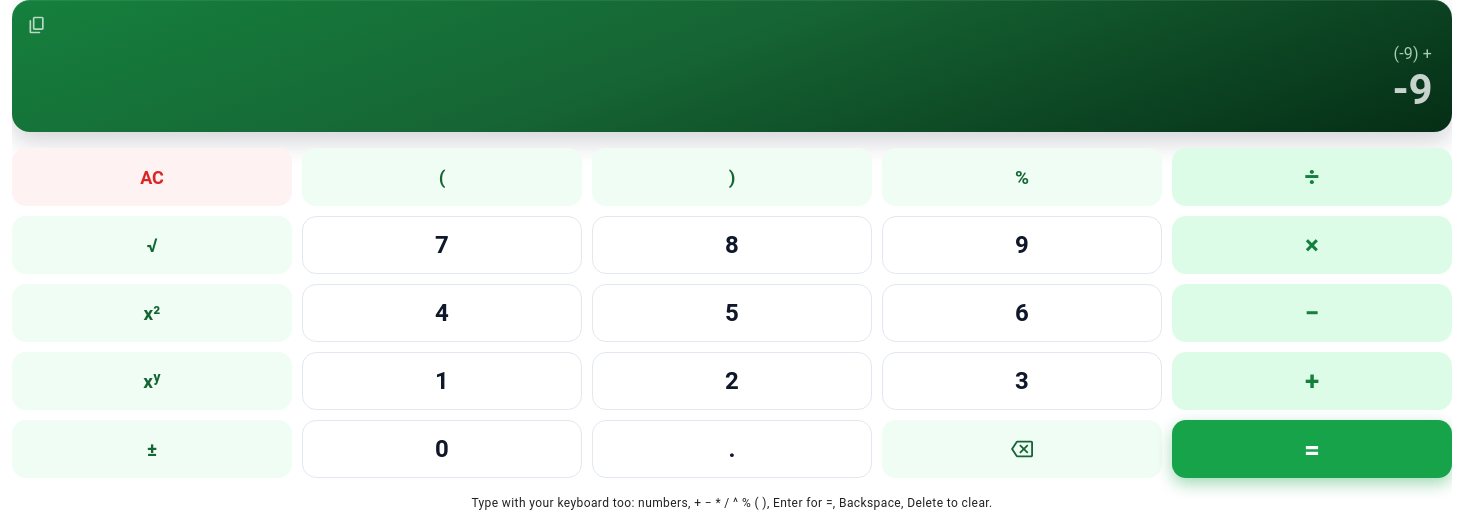
StandardCalculator › toggles the sign of the last number and backspaces
The width and height of the screenshot is (1464, 527).
Earlier steps of the test are not shown.
Click the button "4" at (442,313), box [302,284,582,342]
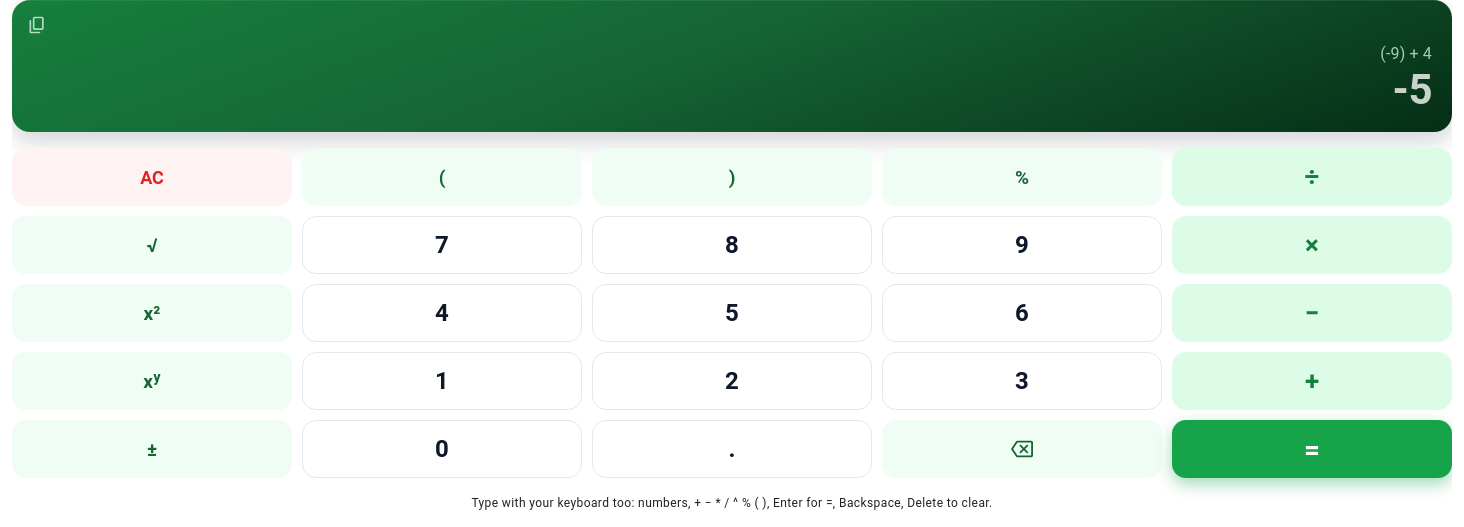
Click the button named "Equals" at (1312,449), box [1172,420,1452,478]
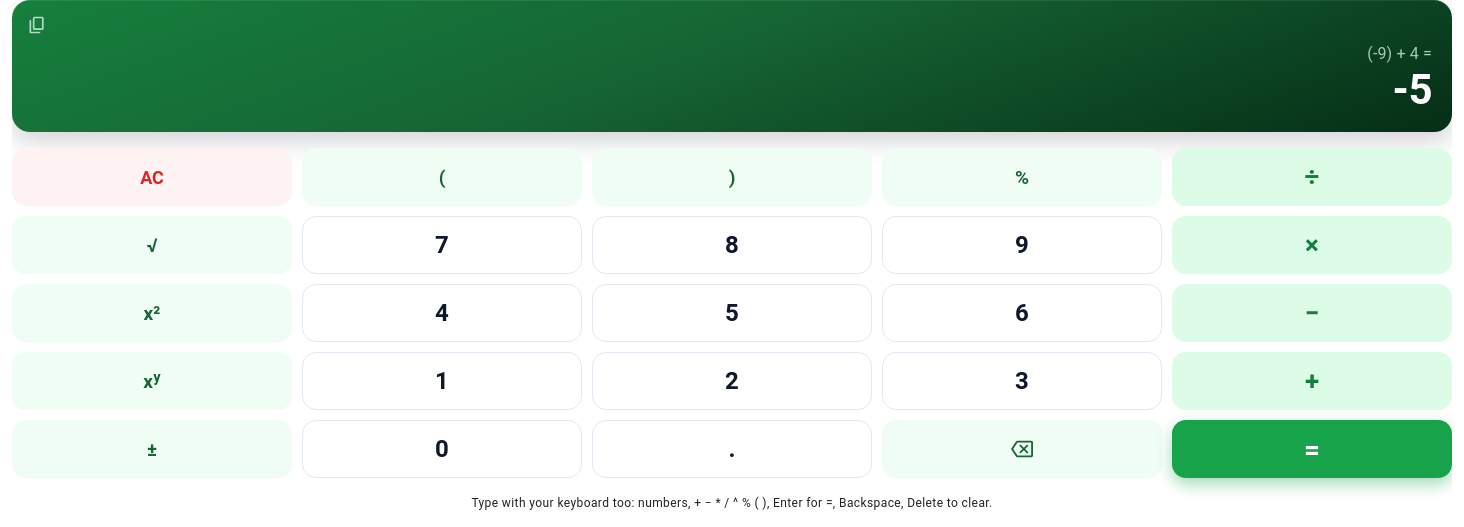
Result: the text with test id "calc-display" reads "-5" at [1393,65,1432,114]
Click the button with aria-label "Clear all" at (152,177), box [12,148,292,206]
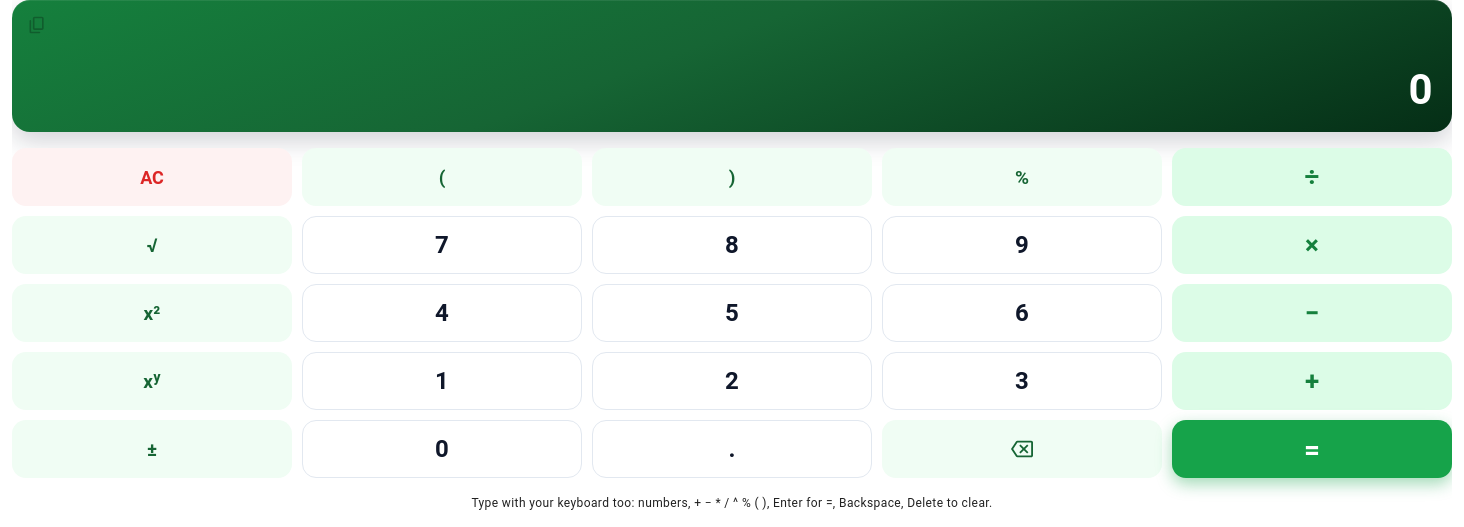
Click the button "1" at (442,381), box [302,352,582,410]
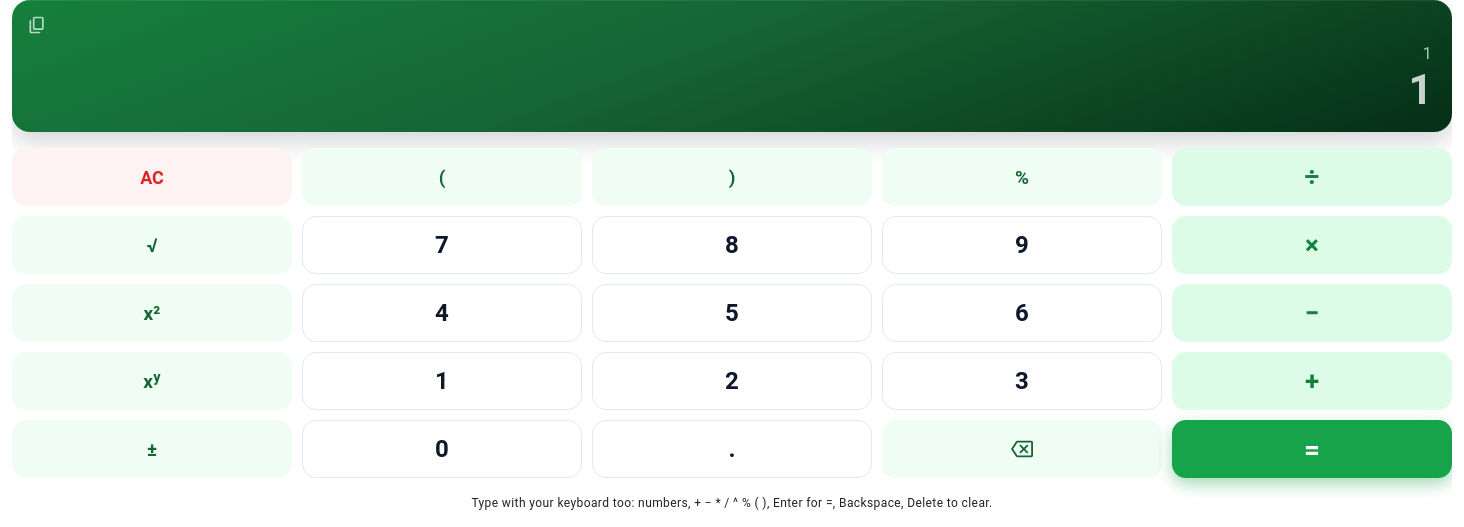
Click the button "2" at (732,381), box [592,352,872,410]
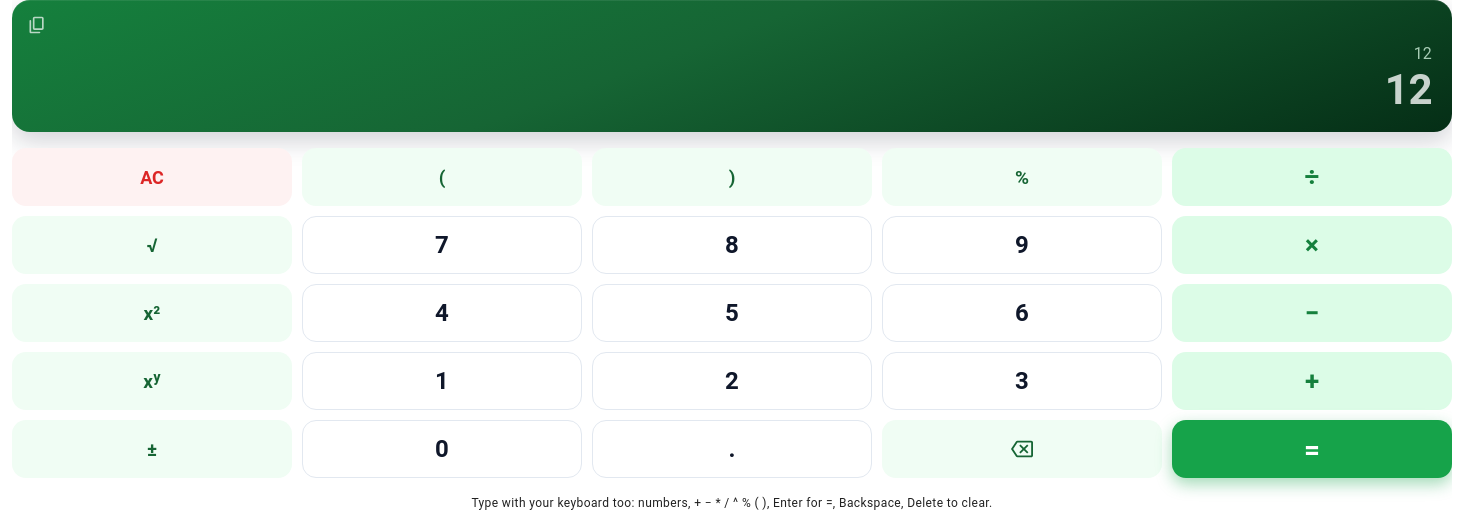
Click the button named "Delete last" at (1022,449), box [882,420,1162,478]
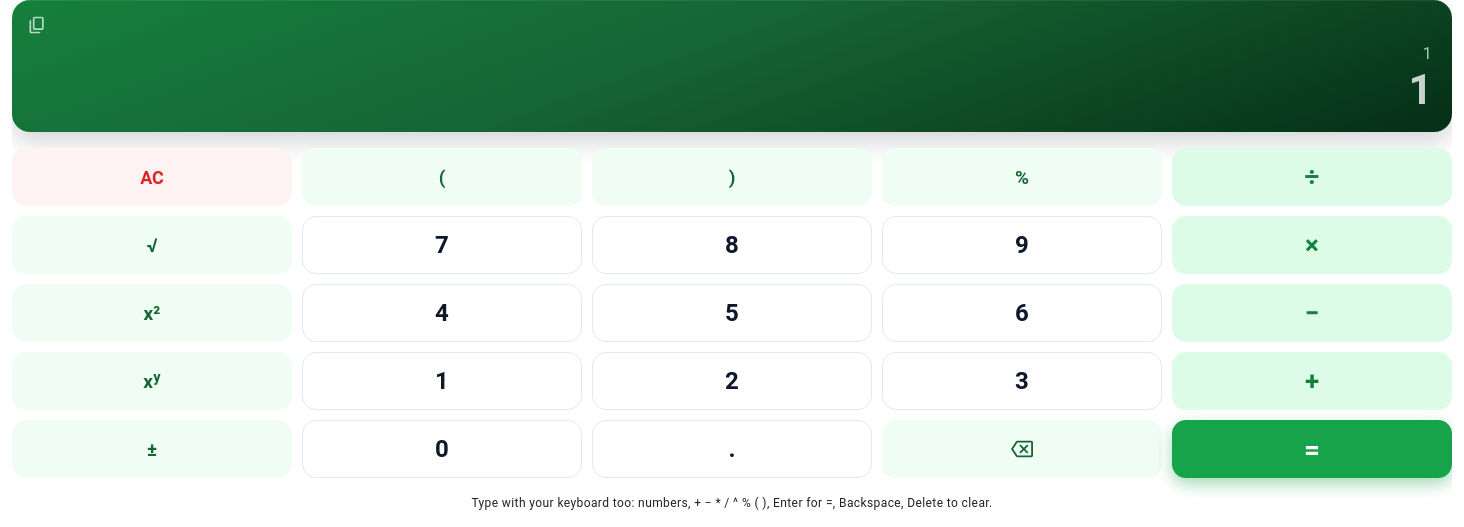
Result: the text with test id "calc-display" reads "1" at [1408,65,1432,114]
